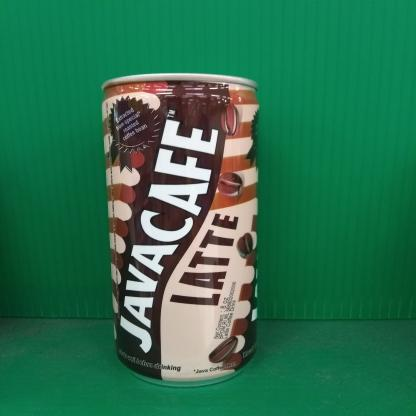bottle: (97, 68, 267, 386)
